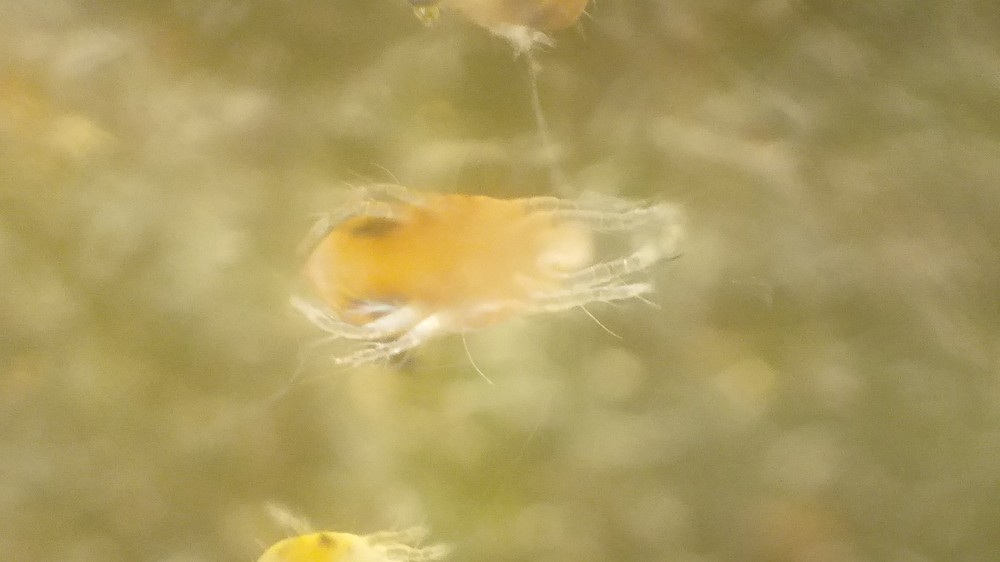Aracnido Rojo: (275, 151, 703, 379)
